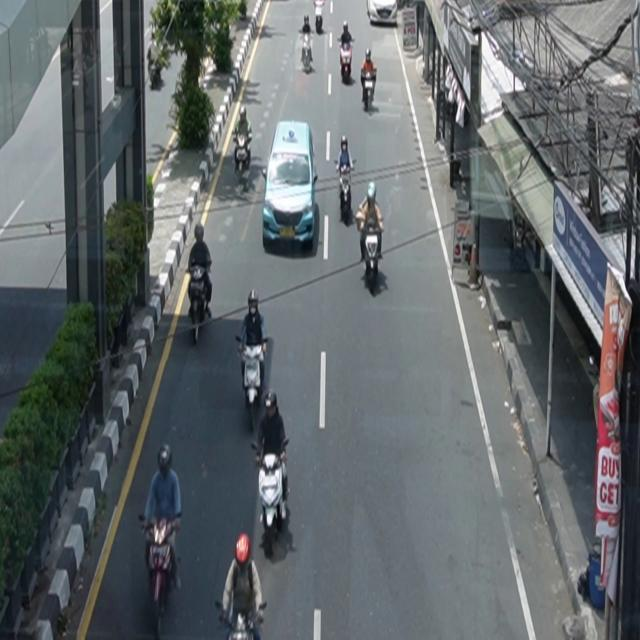car: (262, 121, 319, 249)
